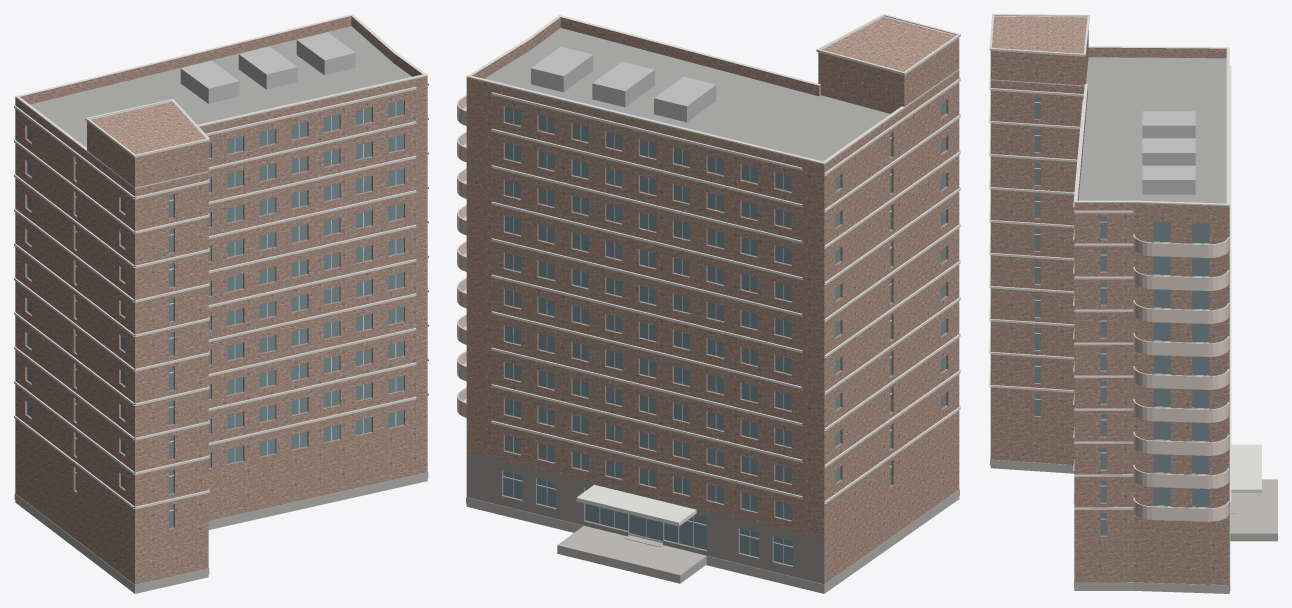
3 views of the same model, side by side, from view 1: azimuth 30°, elevation 25°; view 2: azimuth 150°, elevation 25°; view 3: azimuth 270°, elevation 25° (orthographic). The views are drawn at different scales.
Visible parts, largest first — view 1: D5 light pink brick, D5 blue grey glass, D5 white floor bands, D5 grey roof, D5 rooftop plant grey, D5 granite plinth and paving, D5 white coping, D5 white window frames; view 2: D5 light pink brick, D5 blue grey glass, D5 white floor bands, D5 grey roof, D5 ground floor dark stone, D5 granite plinth and paving, D5 rooftop plant grey, D5 white coping, D5 white window frames, D5 balcony parapet pole, D5 white entrance canopy; view 3: D5 light pink brick, D5 grey roof, D5 balcony parapet pole, D5 blue grey glass, D5 white floor bands, D5 granite plinth and paving, D5 rooftop plant grey, D5 white coping, D5 white entrance canopy, D5 white window frames.
Part boxes in pixels (box(x1,y1,x2,y2)): D5 light pink brick: box(15, 16, 427, 584); D5 blue grey glass: box(27, 100, 403, 528); D5 white floor bands: box(14, 83, 428, 509); D5 grey roof: box(30, 26, 411, 147); D5 rooftop plant grey: box(180, 32, 355, 103); D5 granite plinth and paving: box(14, 472, 428, 593); D5 white coping: box(15, 14, 427, 188); D5 white window frames: box(75, 102, 396, 511); D5 light pink brick: box(466, 17, 959, 583); D5 blue grey glass: box(503, 101, 945, 565); D5 white floor bands: box(491, 77, 960, 503); D5 grey roof: box(484, 28, 889, 161); D5 ground floor dark stone: box(466, 452, 824, 583); D5 granite plinth and paving: box(466, 489, 959, 593); D5 rooftop plant grey: box(531, 46, 716, 122); D5 white coping: box(466, 14, 960, 164); D5 white window frames: box(503, 108, 891, 563); D5 balcony parapet pole: box(457, 95, 466, 417); D5 white entrance canopy: box(576, 484, 696, 526); D5 light pink brick: box(990, 16, 1229, 585); D5 grey roof: box(1078, 57, 1226, 203); D5 balcony parapet pole: box(1133, 234, 1229, 521); D5 blue grey glass: box(1034, 96, 1209, 535); D5 white floor bands: box(989, 65, 1231, 509); D5 granite plinth and paving: box(990, 455, 1277, 593); D5 rooftop plant grey: box(1142, 111, 1195, 194); D5 white coping: box(989, 14, 1229, 205); D5 white entrance canopy: box(1231, 444, 1261, 492); D5 white window frames: box(1034, 102, 1209, 519).
Bounding box in the file's own units: 37.16 × 43.3 × 26.99.
Materials: 11 (1 with a texture image).
